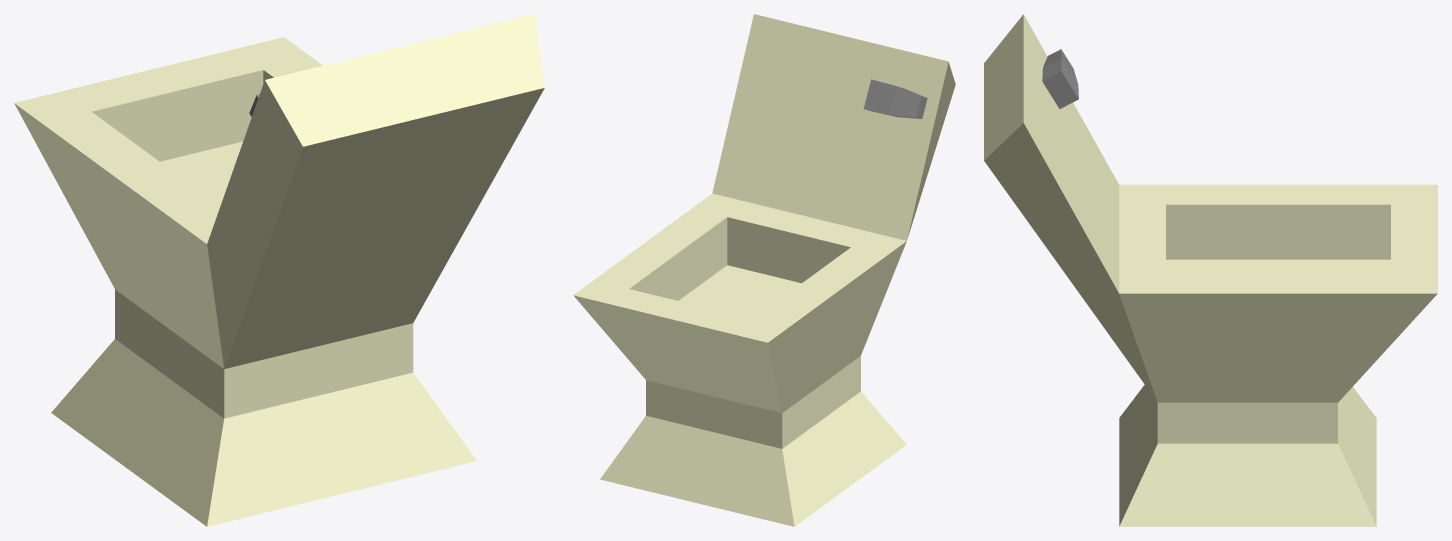
The picture shows the model from 3 angles, left to right: view 1: azimuth 30°, elevation 25°; view 2: azimuth 150°, elevation 25°; view 3: azimuth 270°, elevation 25°; orthographic projection. The views are drawn at different scales.
Parts seen in each view (by area): view 1: wc; view 2: wc; view 3: wc.
Boxes of the visible parts, x1,y1,x2,y2 form: wc: (14,14,544,526); wc: (573,14,955,526); wc: (984,14,1437,526).
Bounding box in the file's own units: 1 × 1.76 × 1.73.
